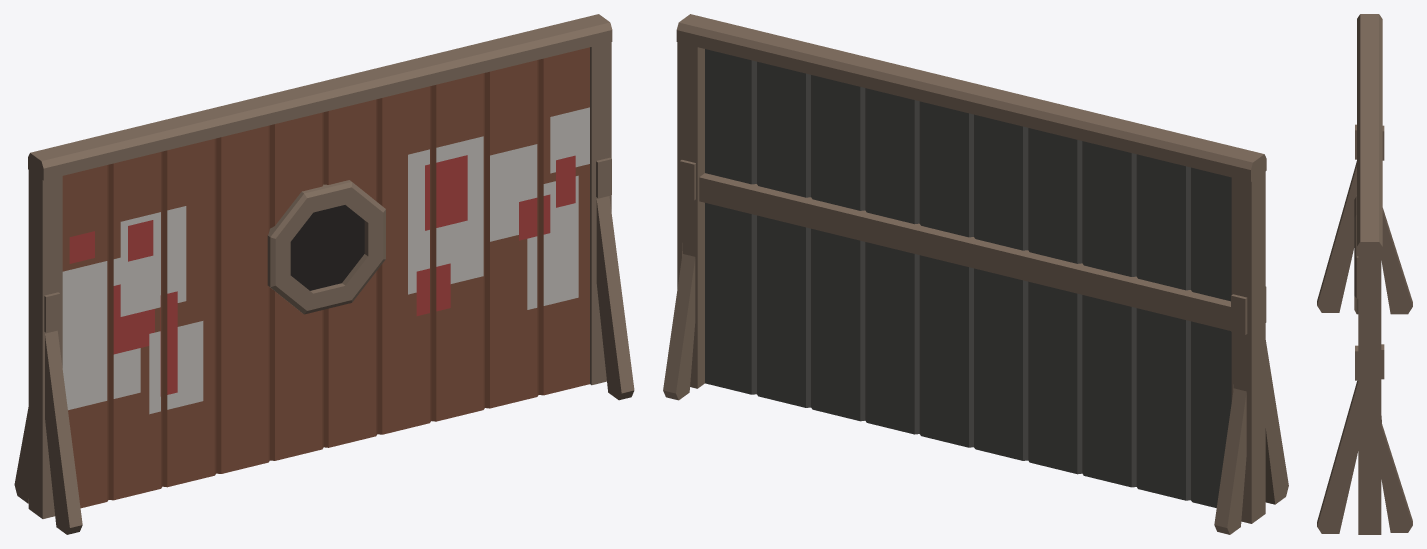
File: construction-hoarding-c286ac.glb
3 renders of one model, left to right at view 1: azimuth 30°, elevation 25°; view 2: azimuth 150°, elevation 25°; view 3: azimuth 270°, elevation 25°, orthographic. The views are drawn at different scales.
Visible parts, largest first — view 1: hoarding-panel; view 2: hoarding-panel; view 3: hoarding-panel.
Boxes of the visible parts, box(x1,y1,x2,y2) form: hoarding-panel: box(14, 14, 634, 534); hoarding-panel: box(663, 14, 1288, 534); hoarding-panel: box(1317, 14, 1412, 534).
Size of the model in its own units: 4 by 2.4 by 0.71.
